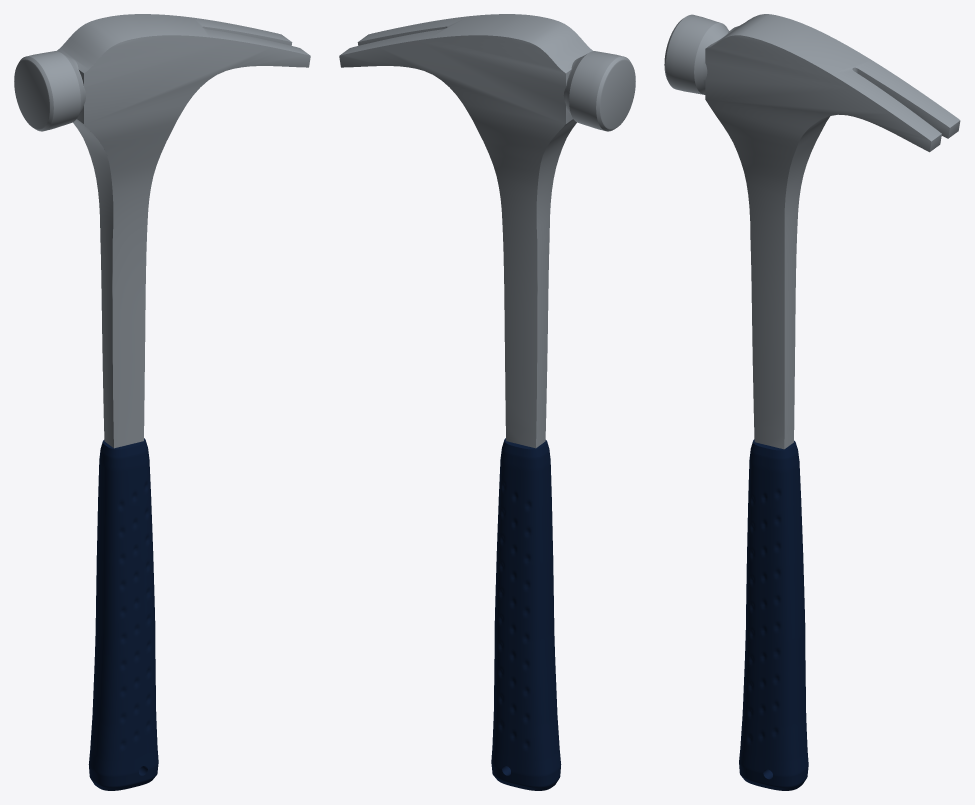
The picture shows the model from 3 angles, left to right: view 1: azimuth 30°, elevation 25°; view 2: azimuth 150°, elevation 25°; view 3: azimuth 330°, elevation 25°; orthographic projection.
Parts seen in each view (by area): view 1: part_001_Forged_body, part_000_Molded_grip; view 2: part_001_Forged_body, part_000_Molded_grip; view 3: part_001_Forged_body, part_000_Molded_grip.
Boxes of the visible parts, <box> form: part_001_Forged_body: <box>14,14,310,448</box>; part_000_Molded_grip: <box>88,438,158,790</box>; part_001_Forged_body: <box>339,14,635,448</box>; part_000_Molded_grip: <box>491,438,561,790</box>; part_001_Forged_body: <box>664,14,960,449</box>; part_000_Molded_grip: <box>739,439,808,790</box>.
Size of the model in its own units: 0.1 by 0.272 by 0.0252.
